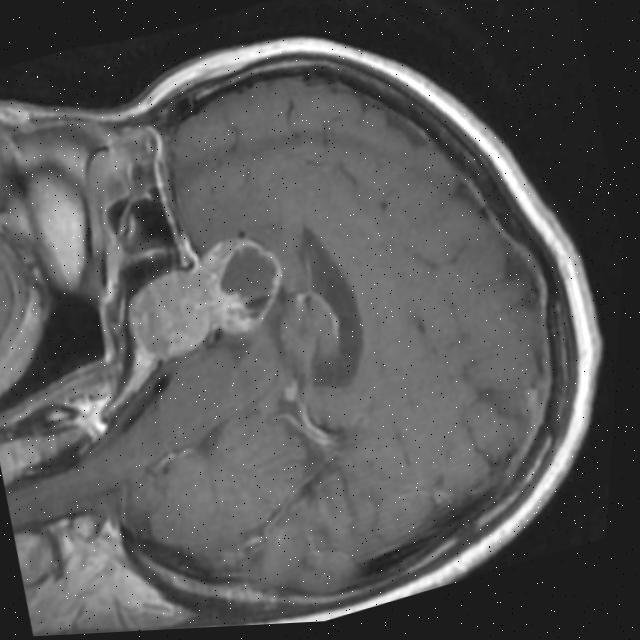Pituitary: (114, 223, 299, 367)
